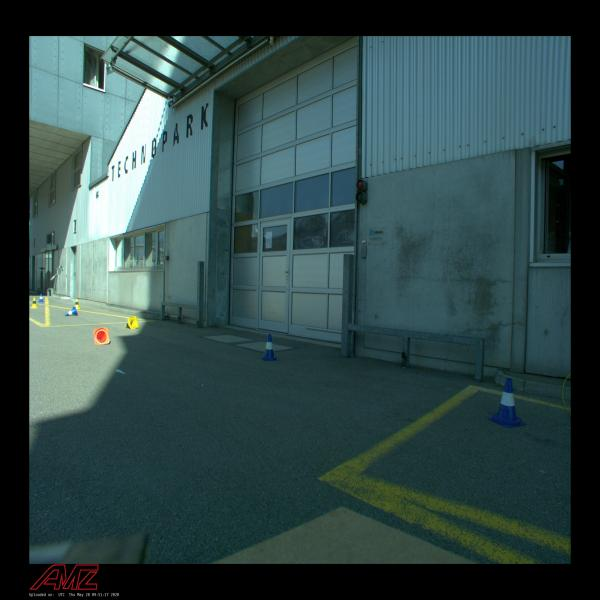blue_cone: (488, 378, 526, 428), (260, 334, 278, 361), (65, 307, 78, 316), (38, 294, 44, 302)
orange_cone: (93, 328, 110, 345)
yellow_cone: (125, 316, 139, 329), (30, 298, 38, 308), (74, 298, 80, 309)
